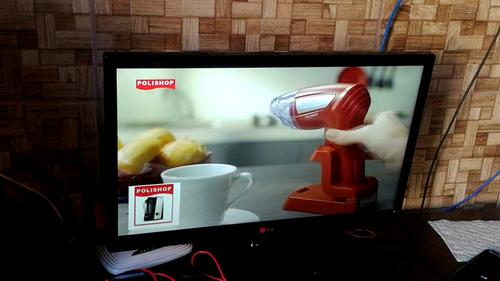Polishop #1: (128, 182, 181, 232)
